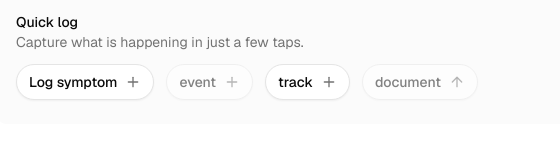
Test: HubQuickActions - document button › disables the document button and shows tooltip guidance when there are no tracks
Hover over the button "document": (420, 82) [362,64,478,100]
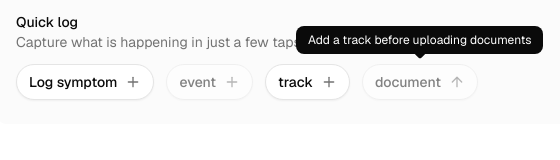
Result: the tooltip reads "Add a track before uploading documents" at [308,32,531,48]
